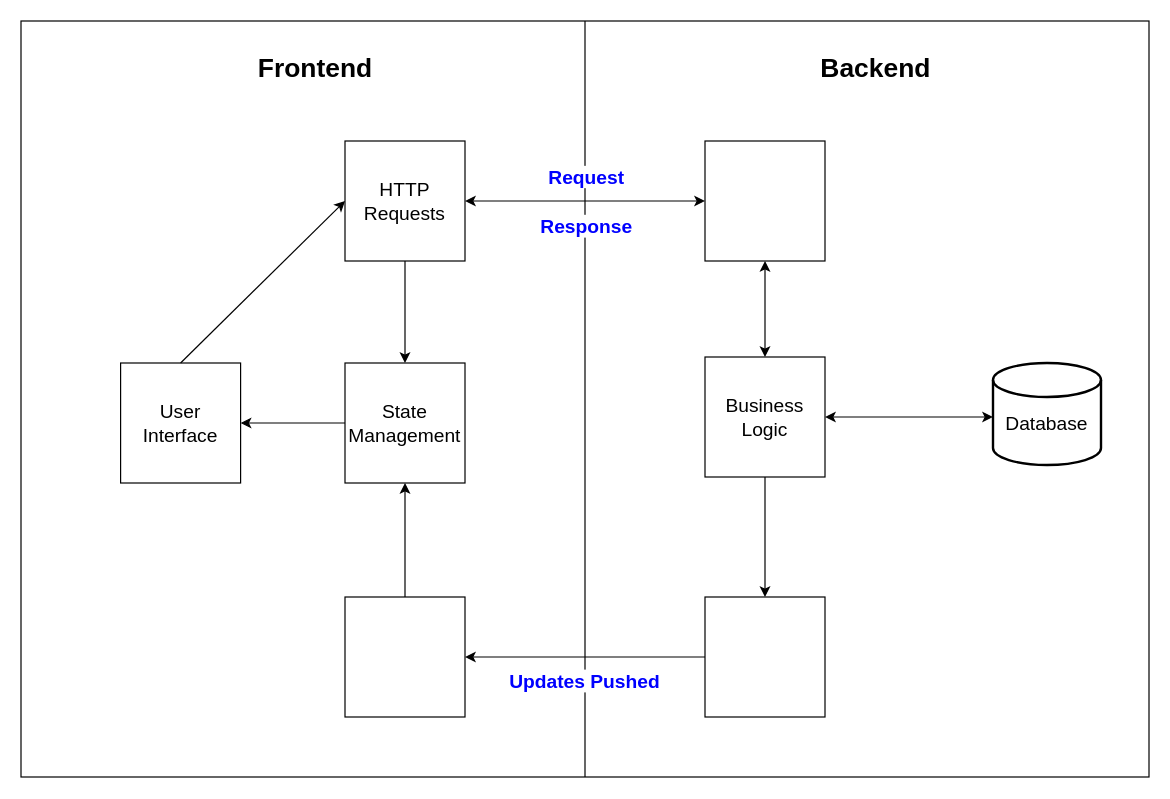
The diagram is 1170 pixels wide and 799 high, and some of its shapes have lost their labels. Here are the shapes that lost their labels. From the top down, the centre of each, then its label:
At point (764, 200): "REST API Endpoints".
At point (404, 656): "Socket.IO Client".
At point (764, 656): "Socket.IO Server".
